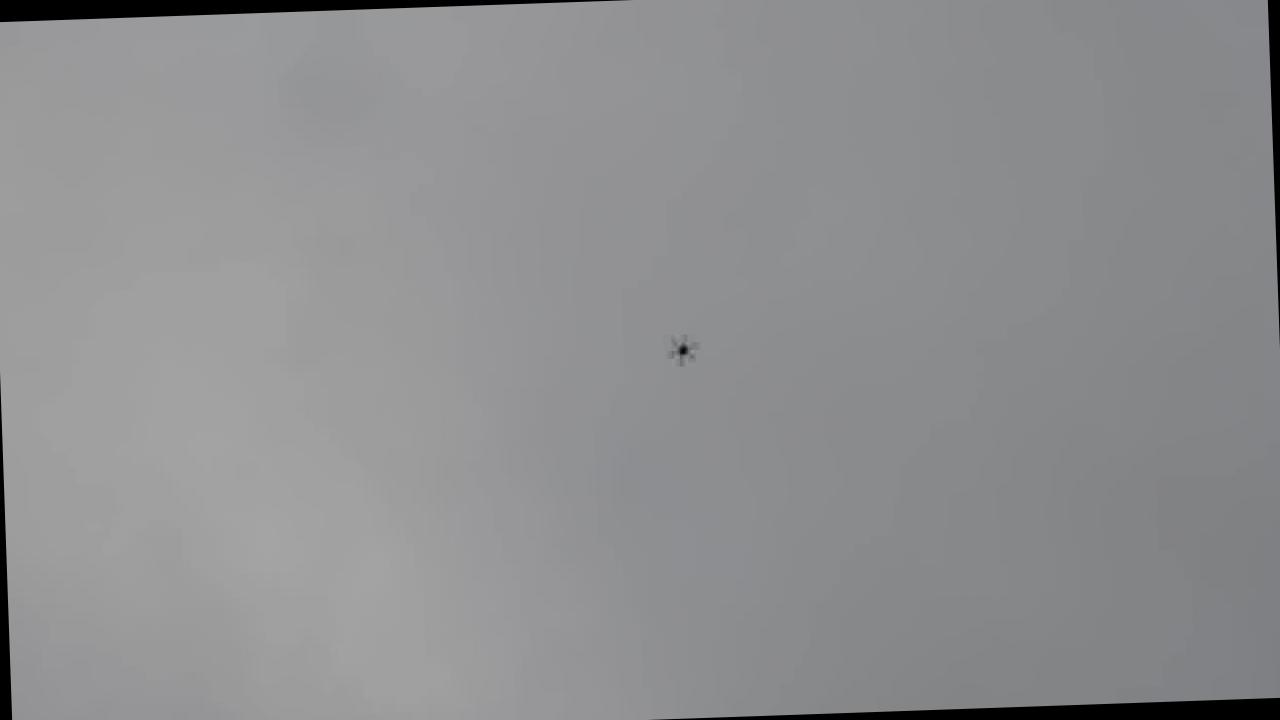drone: (667, 331, 699, 367)
